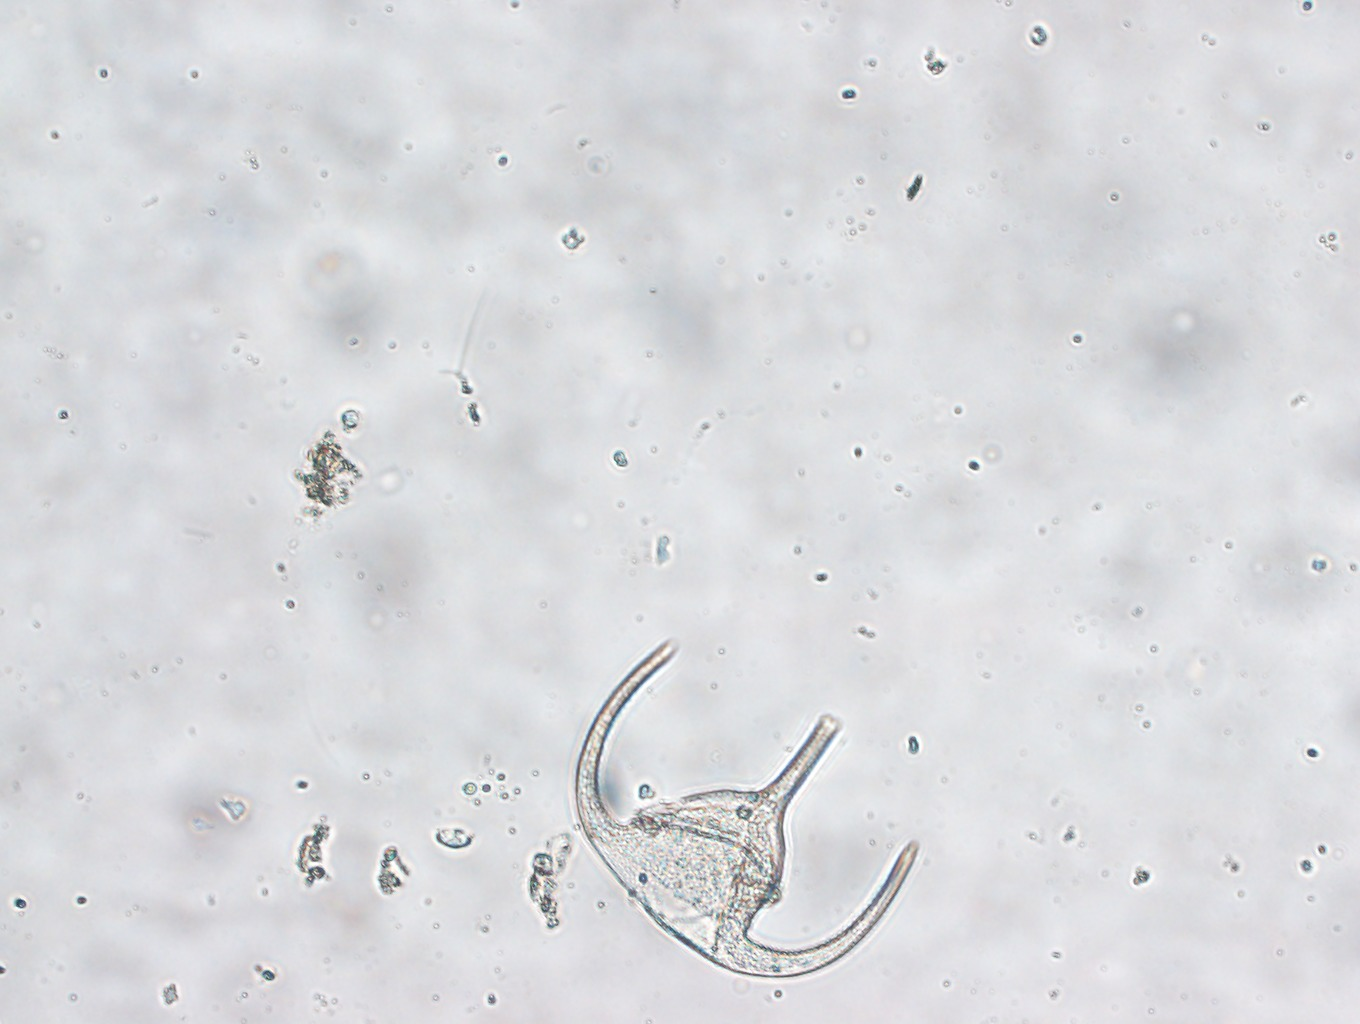ceratium tripos: (574, 641, 920, 977)
